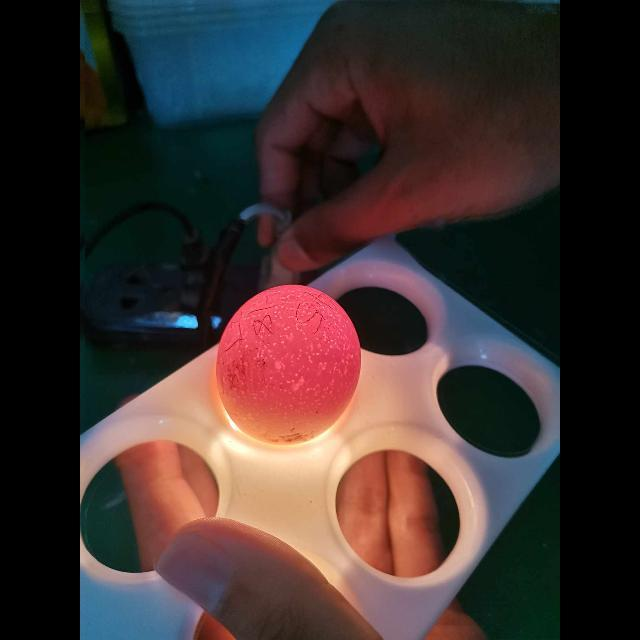Infertile: (215, 284, 362, 454)
